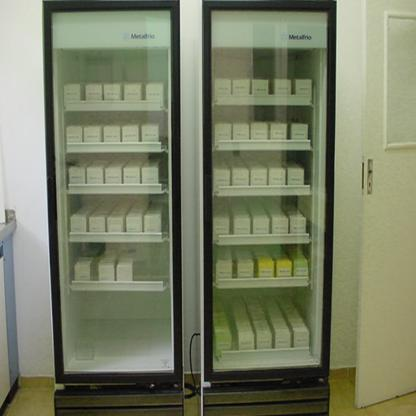door: (358, 0, 416, 408)
